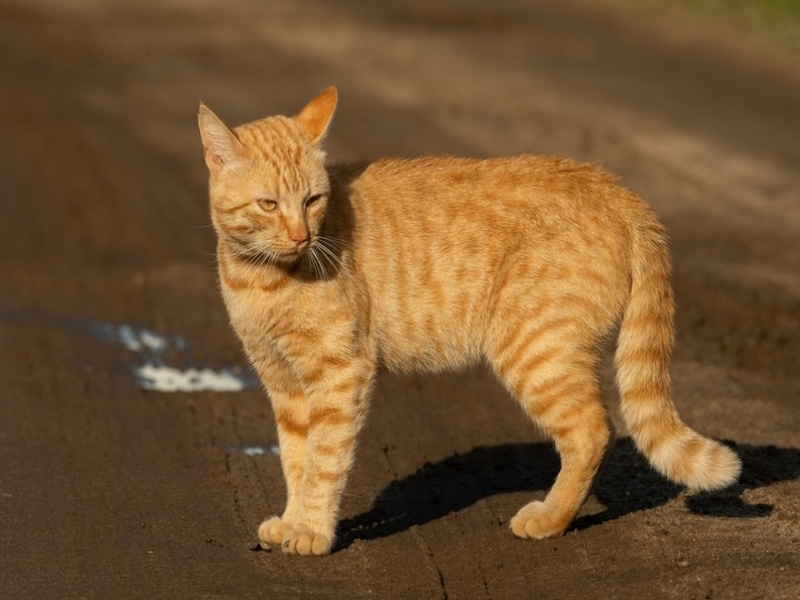cat: (193, 82, 741, 558)
